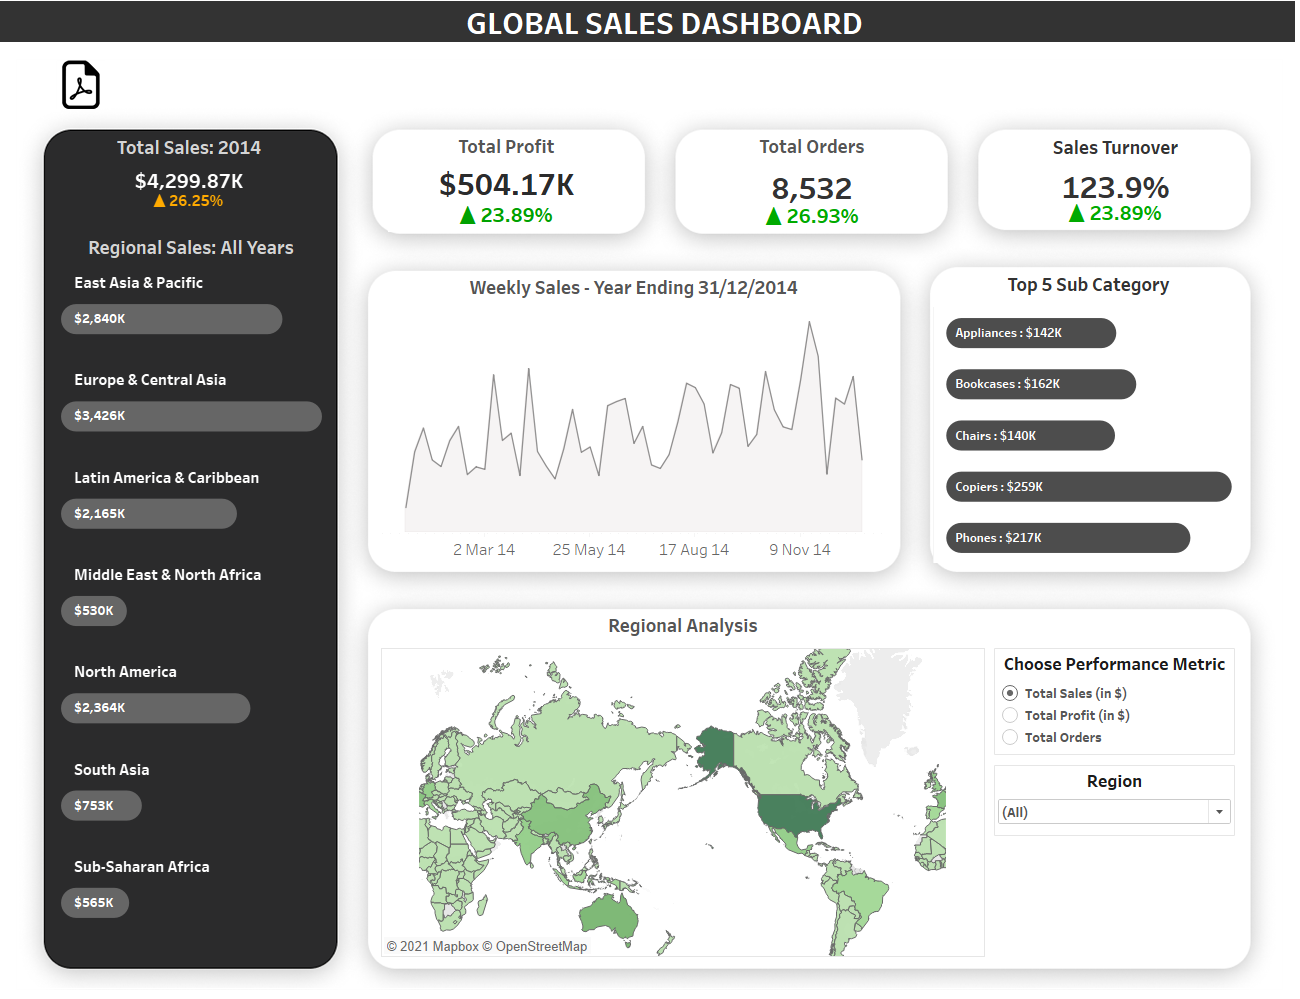

The page's visual inventory and layout, read from the dashboard file:
{"tool":"tableau","page":{"name":"Global Sales Dashboard","canvas":[1367,1007],"ordinal":1},"visuals":[{"type":"title","box":[8,8,1351,49]},{"type":"image","param":"E:/DataAnalytics/Python/Portfolio datasets/Customer Segmentation/SalesDashboardT","box":[35.3,69.9,1291.8,931.2]},{"type":"dashboard-object","box":[60,71,79,49]},{"type":"worksheet","title":"Total Profit","mark":"Automatic","cols":["Calculation_243475880154624003"],"box":[407,140,237,104]},{"type":"worksheet","title":"Total Orders","mark":"Automatic","cols":["Profit-CY (copy)_243475880160448520"],"box":[714,140,234,103]},{"type":"worksheet","title":"Total Sales","mark":"Automatic","cols":["Profit-CY (copy)_243475880163811340"],"box":[129,141,162,94]},{"type":"worksheet","title":"Sales Turnover","mark":"Automatic","cols":["Calculation_243475880164126734"],"box":[1024,141,221,99]},{"type":"worksheet","title":"Regional Sales: All Years","mark":"Line","rows":["Region"],"box":[68,241,284,721]},{"type":"worksheet","title":"Top 5 Sub Category","mark":"Line","rows":["SubCategory"],"box":[952,278,311,296]},{"type":"worksheet","title":"Weekly Sales - Year Ending 31/12/2014","mark":"Area","rows":["Profit-CY (copy)_243475880163811340","Profit-CY (copy)_243475880163811340"],"cols":["OrderDate"],"box":[401,281,503,292]},{"type":"worksheet","title":"Full Order Details","mark":"Automatic","rows":["CustomerName","Segment","Calculation_944067097583546368","Quantity","Sales"],"box":[423.8,292.6,906.8,659.9]},{"type":"worksheet","title":"Regional Analysis","mark":"Automatic","box":[400,619,604,349]},{"type":"parameter","param":"[Parameters].[Days Till Shipment Parameter]","box":[1013,659,241,107]},{"type":"filter","title":"Regional Analysis","param":"[federated.1qnuz3q0zn1xx11gxllty1ndcbgw].[none:Region:nk]","box":[1013,776,241,71]}]}

Visuals, with their boxes on the page's 1367x1007 design canvas (x1, y1, x2, y2). These are canvas units, not pixel positions in the 1300x999 screenshot, which may show the page scaled, cropped or inside an application window:
title: left=8, top=8, right=1359, bottom=57
image: left=35, top=70, right=1327, bottom=1001
dashboard-object: left=60, top=71, right=139, bottom=120
"Total Profit" worksheet: left=407, top=140, right=644, bottom=244
"Total Orders" worksheet: left=714, top=140, right=948, bottom=243
"Total Sales" worksheet: left=129, top=141, right=291, bottom=235
"Sales Turnover" worksheet: left=1024, top=141, right=1245, bottom=240
"Regional Sales: All Years" worksheet (Line marks): left=68, top=241, right=352, bottom=962
"Top 5 Sub Category" worksheet (Line marks): left=952, top=278, right=1263, bottom=574
"Weekly Sales - Year Ending 31/12/2014" worksheet (Area marks): left=401, top=281, right=904, bottom=573
"Full Order Details" worksheet: left=424, top=293, right=1331, bottom=952
"Regional Analysis" worksheet: left=400, top=619, right=1004, bottom=968
parameter: left=1013, top=659, right=1254, bottom=766
"Regional Analysis" filter: left=1013, top=776, right=1254, bottom=847
